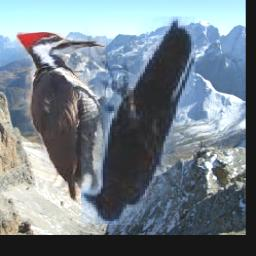Crow: (82, 17, 196, 226)
Woodpecker: (17, 32, 107, 217)
